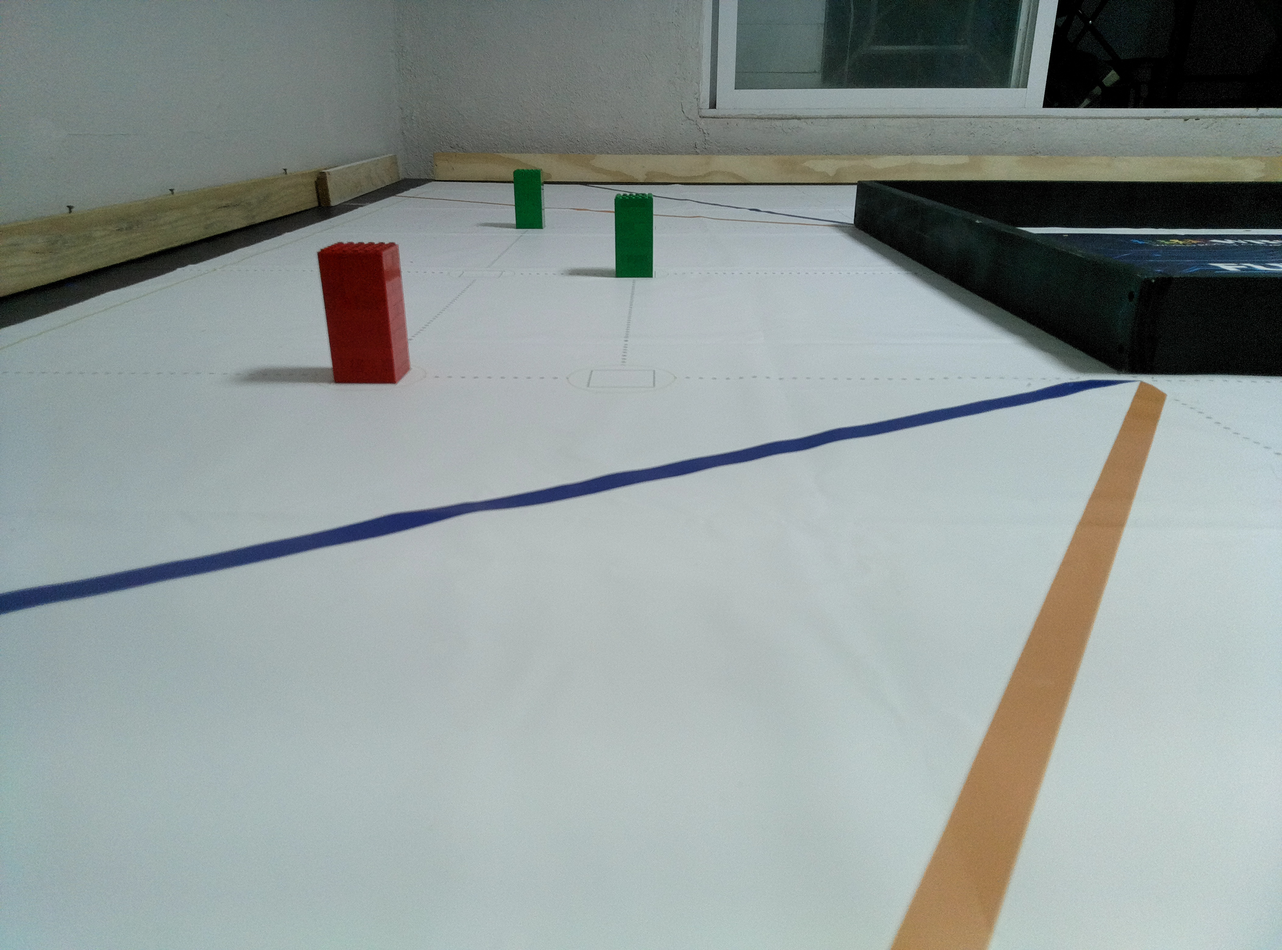greenbox: (615, 193, 653, 278), (513, 169, 546, 229)
redbox: (316, 241, 413, 385)
